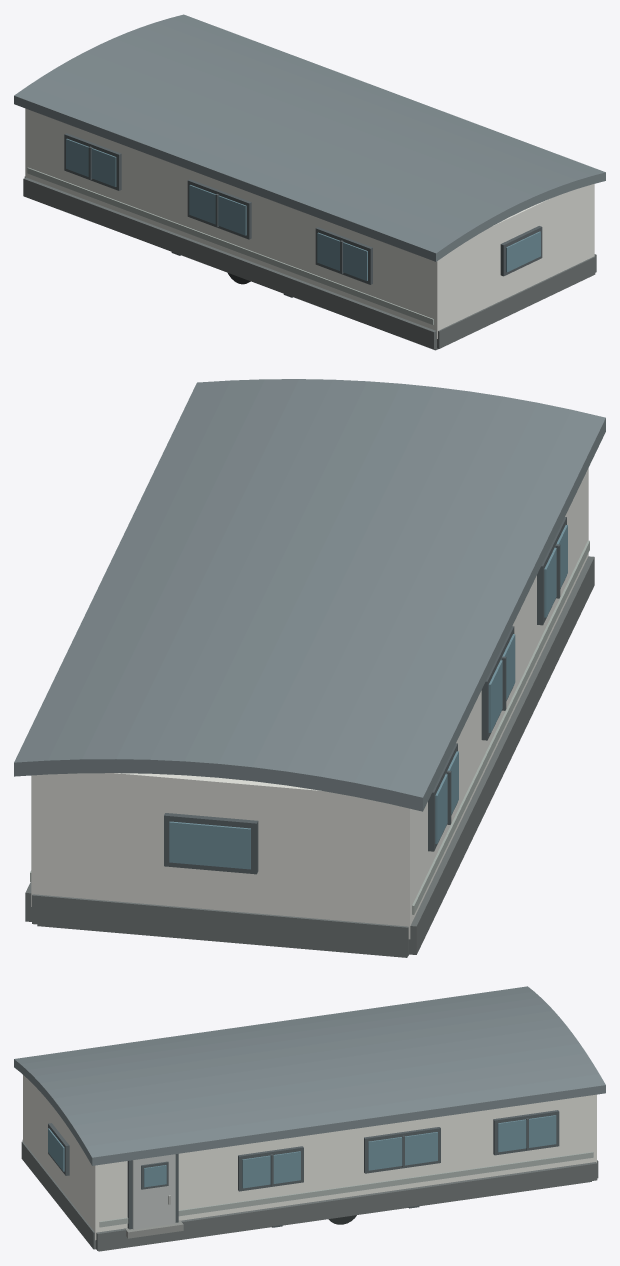
The picture shows the model from 3 angles, top to bottom: view 1: azimuth 30°, elevation 25°; view 2: azimuth 150°, elevation 25°; view 3: azimuth 270°, elevation 25°; orthographic projection. The views are drawn at different scales.
Visible parts, largest first — view 1: shallow_crowned_roof, main_caravan_body, lower_side_skirt_negative, lower_end_skirt_positive, side_stripe_negative, negative_side_window_2_glass, negative_side_window_1_glass, negative_side_window_3_glass, front_end_window_glass, negative_side_window_2_frame, negative_side_window_1_frame, negative_side_window_3_frame (+1 smaller); view 2: shallow_crowned_roof, main_caravan_body, lower_end_skirt_negative, lower_side_skirt_negative, rear_end_window_glass, side_stripe_negative, rear_end_window_frame, negative_side_window_2_glass, negative_side_window_1_glass, negative_side_window_3_glass, underframe_main, negative_side_window_2_frame; view 3: shallow_crowned_roof, main_caravan_body, lower_side_skirt_positive, side_stripe_positive, entrance_door_panel, positive_side_window_2_glass, positive_side_window_1_glass, positive_side_window_3_glass, lower_end_skirt_positive, positive_side_window_2_frame, positive_side_window_1_frame, positive_side_window_3_frame (+6 smaller).
Boxes of the visible parts, bbox=[...] form: shallow_crowned_roof: bbox=[14, 14, 605, 261]; main_caravan_body: bbox=[25, 108, 594, 338]; lower_side_skirt_negative: bbox=[23, 177, 436, 349]; lower_end_skirt_positive: bbox=[437, 256, 595, 348]; side_stripe_negative: bbox=[27, 167, 433, 324]; negative_side_window_2_glass: bbox=[189, 185, 246, 235]; negative_side_window_1_glass: bbox=[66, 138, 116, 186]; negative_side_window_3_glass: bbox=[317, 232, 367, 280]; front_end_window_glass: bbox=[506, 231, 540, 272]; negative_side_window_2_frame: bbox=[187, 179, 251, 239]; negative_side_window_1_frame: bbox=[64, 133, 121, 190]; negative_side_window_3_frame: bbox=[315, 227, 372, 284]; shallow_crowned_roof: bbox=[14, 379, 605, 811]; main_caravan_body: bbox=[31, 468, 588, 939]; lower_end_skirt_negative: bbox=[32, 894, 408, 956]; lower_side_skirt_negative: bbox=[409, 556, 594, 954]; rear_end_window_glass: bbox=[169, 821, 250, 869]; side_stripe_negative: bbox=[412, 540, 589, 914]; rear_end_window_frame: bbox=[164, 813, 258, 874]; negative_side_window_2_glass: bbox=[488, 634, 515, 732]; negative_side_window_1_glass: bbox=[435, 751, 458, 843]; negative_side_window_3_glass: bbox=[544, 525, 567, 617]; underframe_main: bbox=[37, 924, 407, 957]; negative_side_window_2_frame: bbox=[481, 626, 514, 740]; shallow_crowned_roof: bbox=[14, 986, 605, 1165]; main_caravan_body: bbox=[23, 1075, 596, 1240]; lower_side_skirt_positive: bbox=[96, 1162, 597, 1250]; side_stripe_positive: bbox=[99, 1152, 593, 1227]; entrance_door_panel: bbox=[132, 1154, 175, 1229]; positive_side_window_2_glass: bbox=[368, 1132, 437, 1170]; positive_side_window_1_glass: bbox=[497, 1115, 556, 1152]; positive_side_window_3_glass: bbox=[242, 1151, 300, 1188]; lower_end_skirt_positive: bbox=[21, 1141, 95, 1249]; positive_side_window_2_frame: bbox=[364, 1127, 440, 1173]; positive_side_window_1_frame: bbox=[493, 1110, 559, 1155]; positive_side_window_3_frame: bbox=[238, 1146, 303, 1191].
Size of the model in its own units: 7.61 by 2.5 by 11.1.
